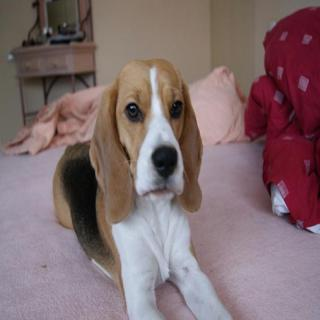dog: (89, 59, 210, 225)
nose: (148, 141, 184, 180)
